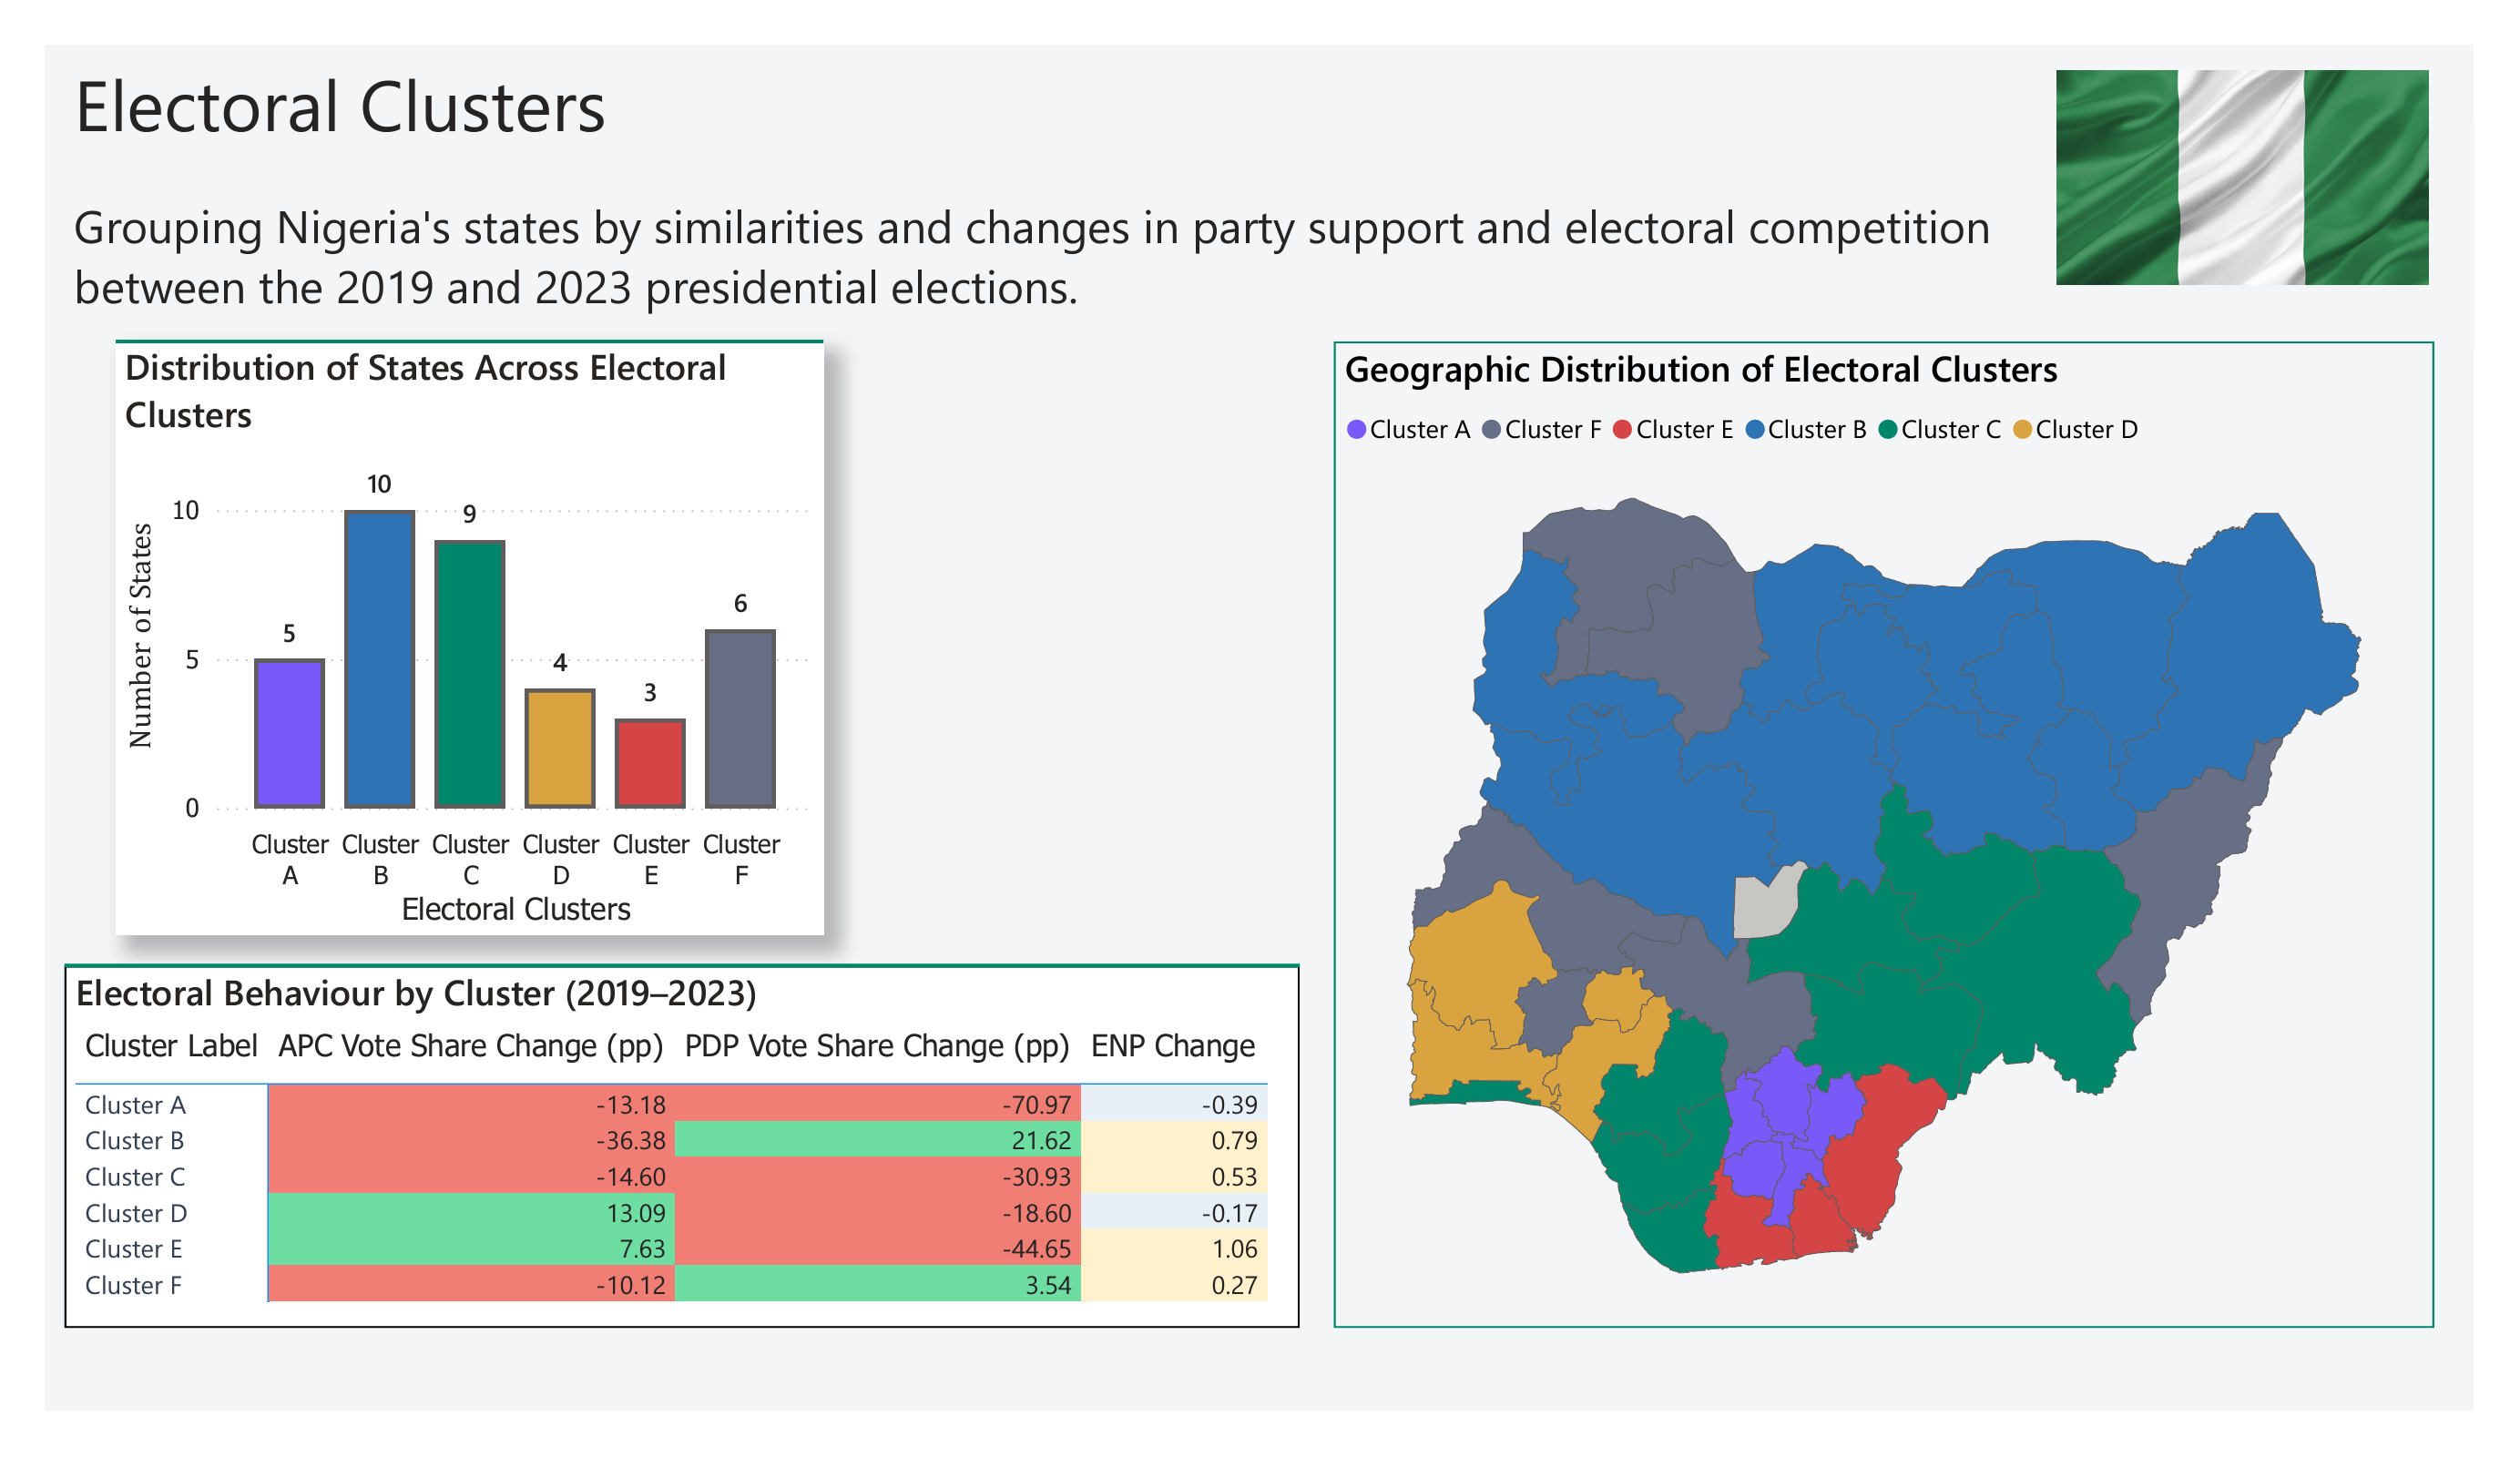

What the dashboard file says about the page in this screenshot:
{"tool":"powerbi","page":{"name":"ELECTORAL CLUSTERS","canvas":[1280,720],"ordinal":7},"visuals":[{"type":"textbox","box":[10.3,0,445.2,60.2],"z":0},{"type":"image","box":[1046.2,13.2,223.3,113.1],"z":1000},{"type":"textbox","box":[10.3,73.5,1035.9,82.3],"z":2000},{"type":"clusteredColumnChart","title":"Distribution of States Across Electoral Clusters","fields":{"Category":["fact_cluster.Cluster Label"],"Y":["CountNonNull(fact_cluster.state)"]},"box":[36.7,155.8,373.2,313],"z":3000},{"type":"pivotTable","title":"Electoral Behaviour by Cluster (2019–2023)","fields":{"Rows":["fact_cluster.Cluster Label"],"Values":["fact_cluster.Average APC Share Change","fact_cluster.Average PDP Share Change","fact_cluster.Average ENP Change"]},"box":[10.3,484.9,650.9,191],"z":4000},{"type":"shape","box":[36.7,139.6,373.2,32.3],"z":5000},{"type":"shape","box":[10.3,468.7,650.9,32.3],"z":6000},{"type":"shapeMap","title":"Geographic Distribution of Electoral Clusters","fields":{"Category":["fact_cluster.state"],"Series":["fact_cluster.Cluster Label"]},"box":[678.9,155.8,580.4,520.2],"z":7000}]}

Visuals, with their boxes on the page's 1280x720 design canvas (x1, y1, x2, y2). These are canvas units, not pixel positions in the 2520x1457 screenshot, which may show the page scaled, cropped or inside an application window:
textbox: <box>10,0,456,60</box>
image: <box>1046,13,1270,126</box>
textbox: <box>10,74,1046,156</box>
"Distribution of States Across Electoral Clusters" clusteredColumnChart: <box>37,156,410,469</box>
"Electoral Behaviour by Cluster (2019–2023)" pivotTable: <box>10,485,661,676</box>
shape: <box>37,140,410,172</box>
shape: <box>10,469,661,501</box>
"Geographic Distribution of Electoral Clusters" shapeMap: <box>679,156,1259,676</box>
